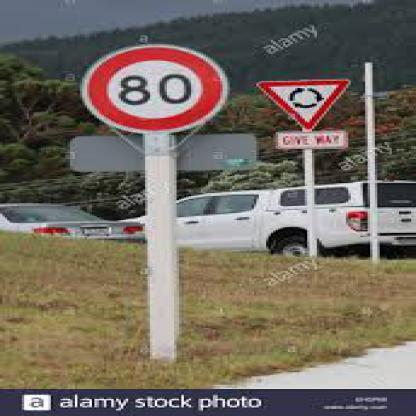Speed Limit 80: (87, 44, 225, 132)
